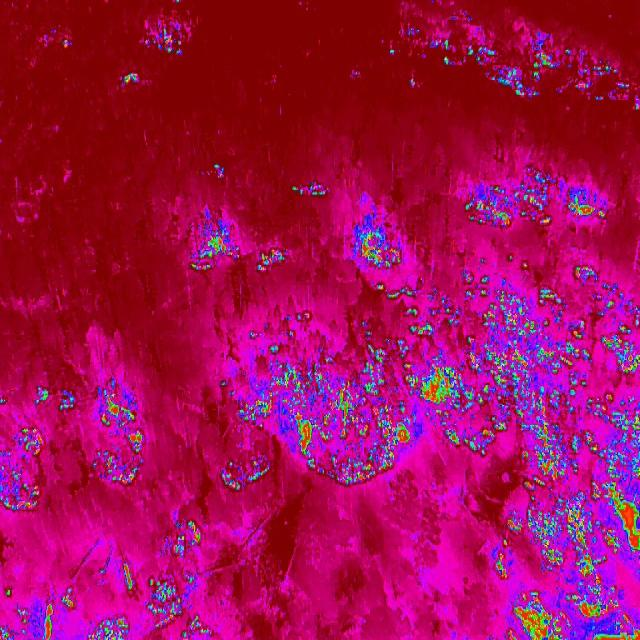fire: (216, 253, 640, 502), (382, 15, 640, 116), (493, 487, 640, 640), (0, 376, 146, 514), (0, 569, 220, 640), (462, 173, 612, 229), (187, 218, 294, 284), (344, 213, 410, 272), (140, 15, 188, 53), (160, 522, 203, 556), (292, 178, 332, 204), (119, 61, 146, 90), (59, 30, 74, 52), (209, 160, 224, 178)
